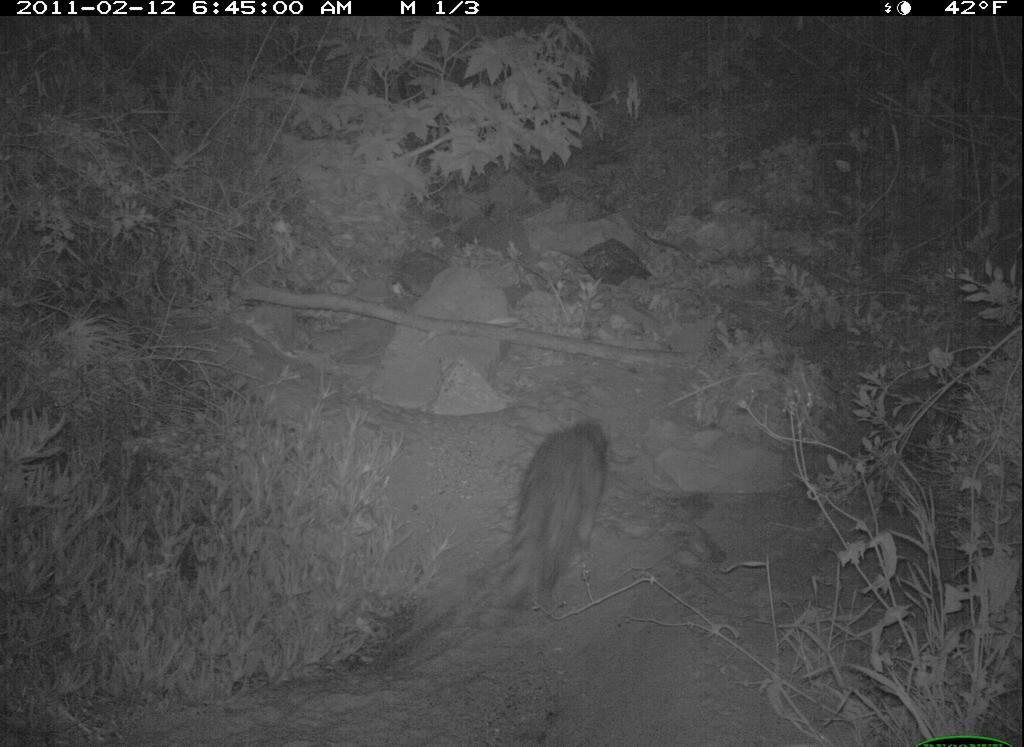raccoon: (472, 387, 632, 637)
